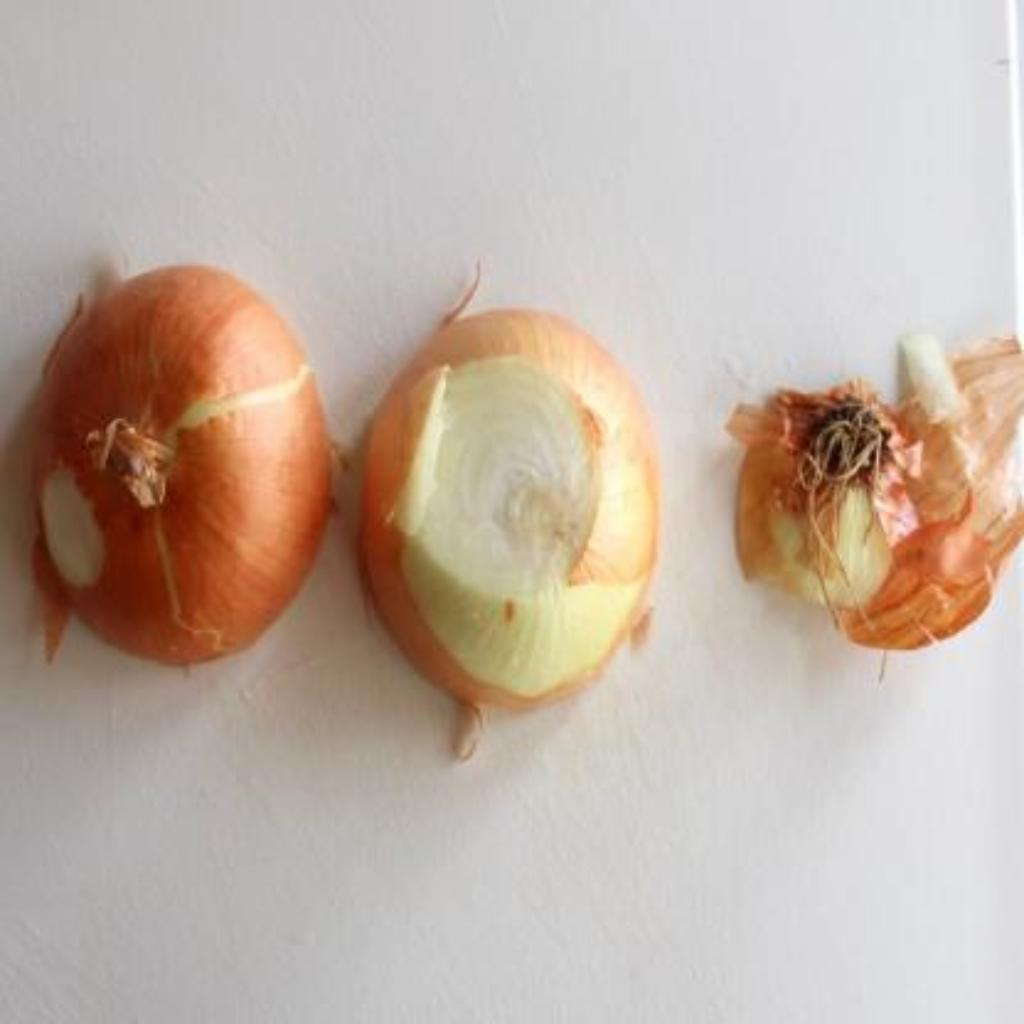Onion: (32, 266, 332, 666)
